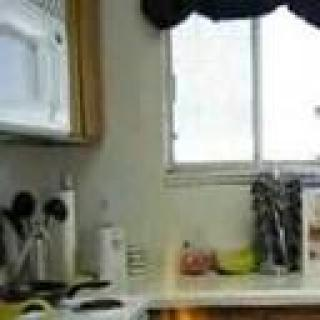fire: (124, 302, 269, 320)
